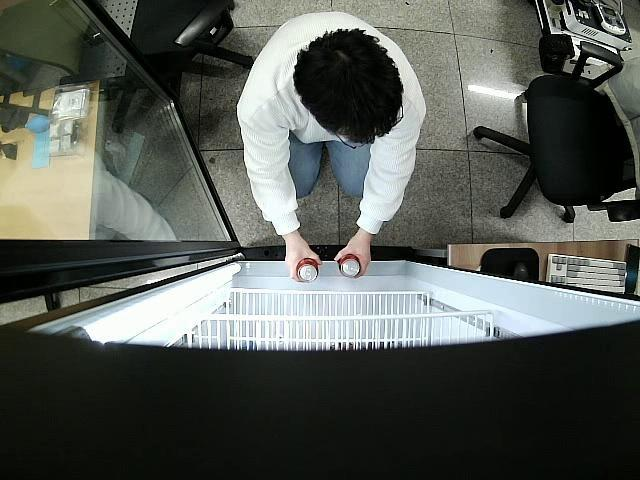11_cocaColaZero: (296, 256, 319, 284), (339, 253, 362, 278)
